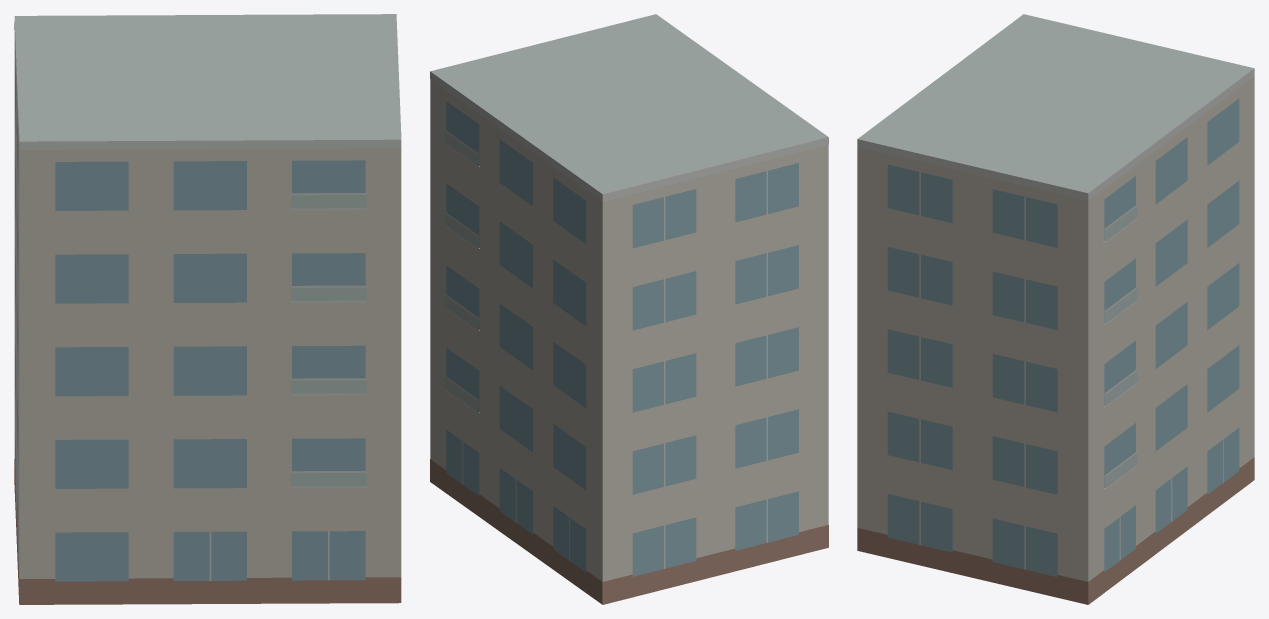
File: survey-upis-33003084.glb
The picture shows the model from 3 angles, left to right: view 1: azimuth 30°, elevation 25°; view 2: azimuth 150°, elevation 25°; view 3: azimuth 270°, elevation 25°; orthographic projection. The views are drawn at different scales.
Visible parts, largest first — view 1: survey-upis-33003084.tmp; view 2: survey-upis-33003084.tmp; view 3: survey-upis-33003084.tmp.
Boxes of the visible parts, x1,y1,x2,y2 form: survey-upis-33003084.tmp: (14, 14, 401, 604); survey-upis-33003084.tmp: (430, 14, 828, 604); survey-upis-33003084.tmp: (857, 14, 1254, 604).
Size of the model in its own units: 12.38 by 13.25 by 11.6.
